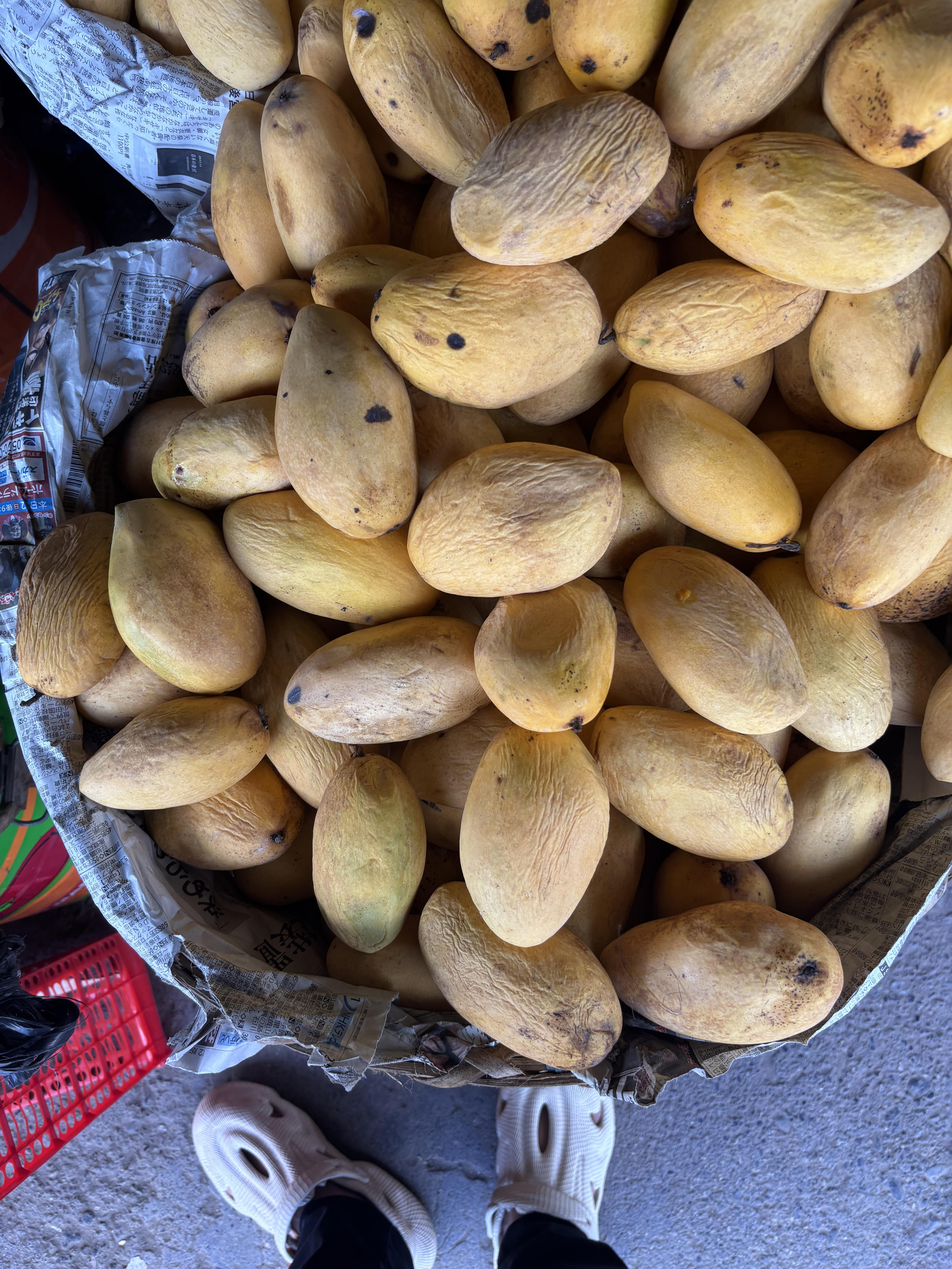mango: (694, 132, 949, 293), (451, 91, 670, 265), (602, 901, 843, 1044), (624, 546, 807, 734), (275, 304, 418, 539), (460, 724, 610, 947), (408, 443, 621, 597), (624, 381, 801, 552), (312, 754, 426, 953), (79, 696, 269, 810)
occluded: (419, 882, 622, 1070), (371, 253, 606, 408), (591, 706, 793, 860), (342, 0, 509, 186), (109, 498, 265, 695), (223, 489, 437, 626), (656, 0, 852, 149), (805, 422, 952, 609), (752, 556, 892, 752), (283, 615, 488, 744), (261, 75, 389, 280), (809, 255, 952, 431), (614, 260, 824, 374), (241, 599, 351, 808), (760, 748, 891, 921), (475, 577, 616, 732), (823, 0, 952, 168), (16, 513, 125, 698), (145, 757, 303, 869), (183, 280, 312, 406), (211, 101, 297, 289), (400, 704, 509, 852), (152, 396, 290, 509), (326, 914, 450, 1011), (565, 806, 645, 956), (552, 0, 676, 94), (587, 463, 686, 578), (168, 0, 294, 90), (604, 581, 690, 712), (624, 350, 774, 425), (407, 386, 505, 494), (508, 341, 630, 425), (76, 647, 193, 730), (311, 245, 429, 326), (761, 430, 858, 528), (568, 223, 658, 326), (773, 323, 851, 434), (233, 805, 316, 907), (653, 849, 775, 918), (118, 395, 199, 497), (444, 0, 553, 71), (630, 143, 708, 238), (880, 623, 950, 727), (875, 538, 952, 624), (297, 0, 352, 96), (511, 53, 581, 120), (411, 181, 464, 257), (916, 347, 952, 457), (185, 279, 243, 343), (921, 665, 952, 782), (135, 0, 189, 55), (921, 139, 952, 223), (753, 725, 792, 767), (65, 0, 132, 22), (940, 229, 952, 269)
